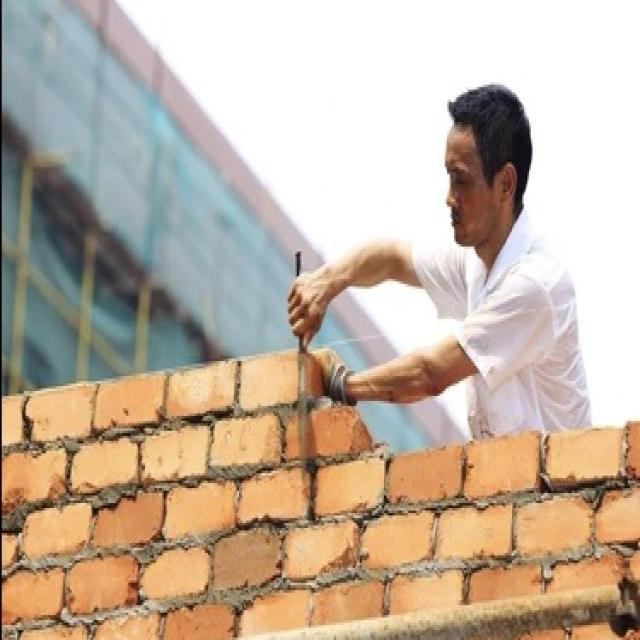no-gloves: (280, 252, 372, 336), (308, 343, 401, 415)
no-goggles: (440, 144, 486, 200)
no-helmet: (427, 80, 558, 270)
no-vest: (421, 266, 606, 426)
person: (232, 37, 628, 444)
